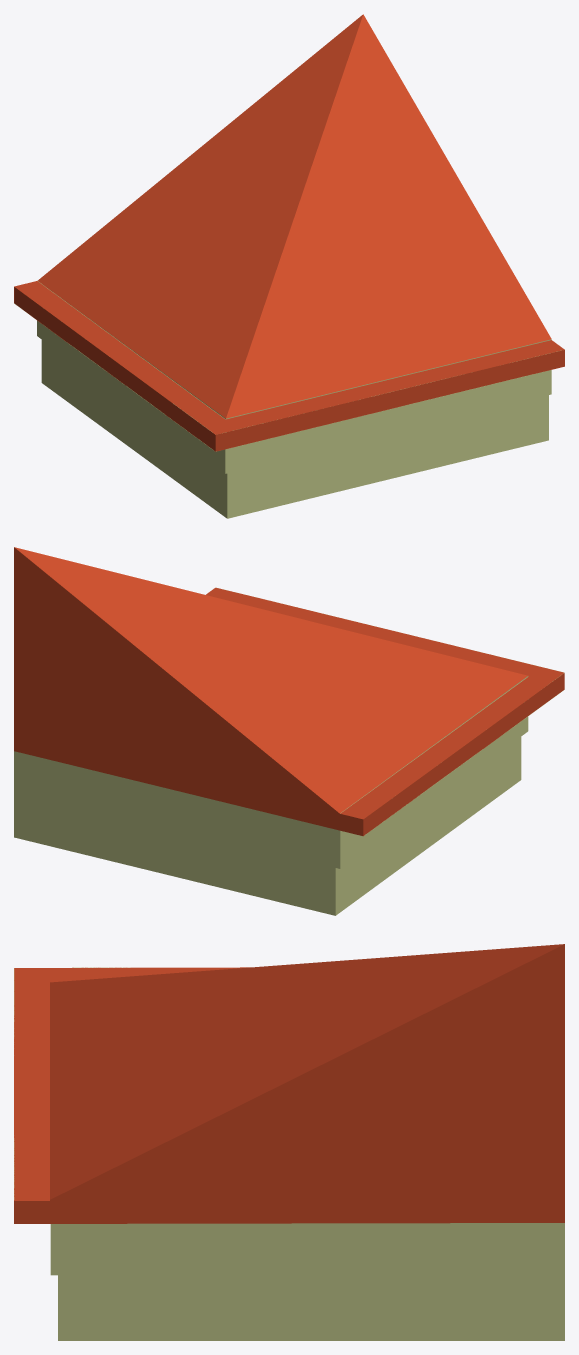
Rendered from cornerroof.fbx.
The picture shows the model from 3 angles, top to bottom: view 1: azimuth 30°, elevation 25°; view 2: azimuth 150°, elevation 25°; view 3: azimuth 270°, elevation 25°; orthographic projection. The views are drawn at different scales.
Parts seen in each view (by area): view 1: Cube_3; view 2: Cube_3; view 3: Cube_3.
Part boxes in pixels (x1,y1,x2,y2): Cube_3: (14,14,564,518); Cube_3: (14,547,564,915); Cube_3: (14,944,564,1340).
Size of the model in its own units: 151 by 120 by 151.
